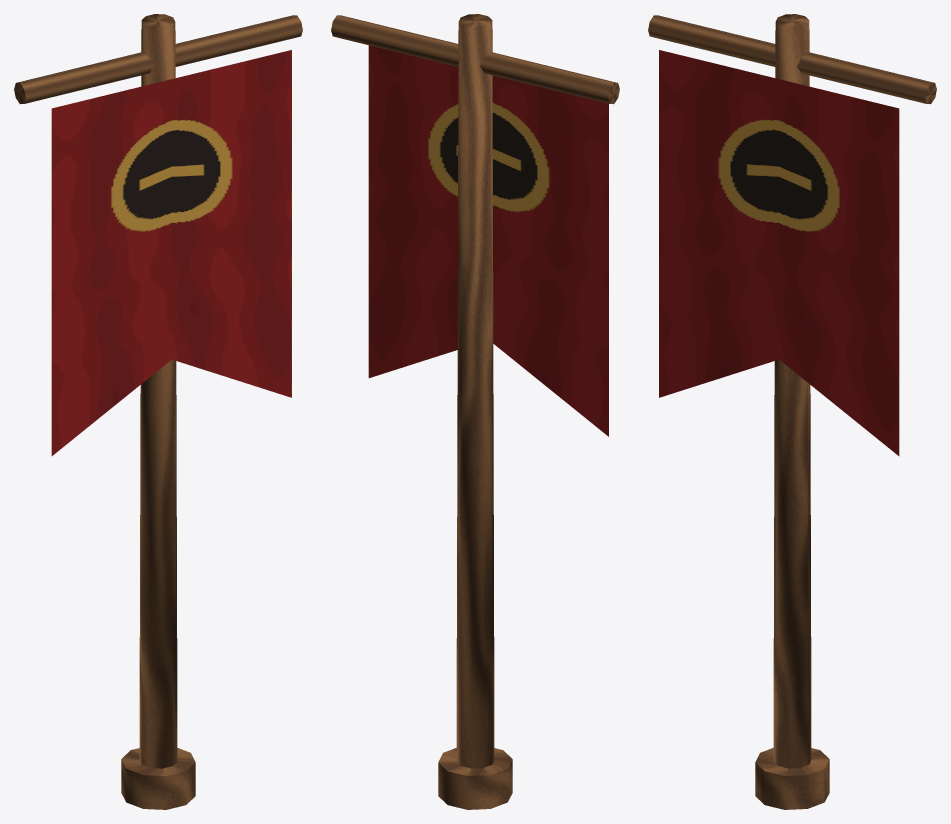
The model's file is estandarte_orc.glb.
3 renders of one model, left to right at view 1: azimuth 30°, elevation 25°; view 2: azimuth 150°, elevation 25°; view 3: azimuth 330°, elevation 25°, orthographic.
Visible parts, largest first — view 1: estandarte_orc; view 2: estandarte_orc; view 3: estandarte_orc.
Boxes of the visible parts, x1,y1,x2,y2 form: estandarte_orc: (14,14,302,809); estandarte_orc: (331,14,619,809); estandarte_orc: (648,14,936,809).
Bounding box in the file's own units: 0.6 × 1.6 × 0.1331.
Materials: 1 (1 with a texture image).
